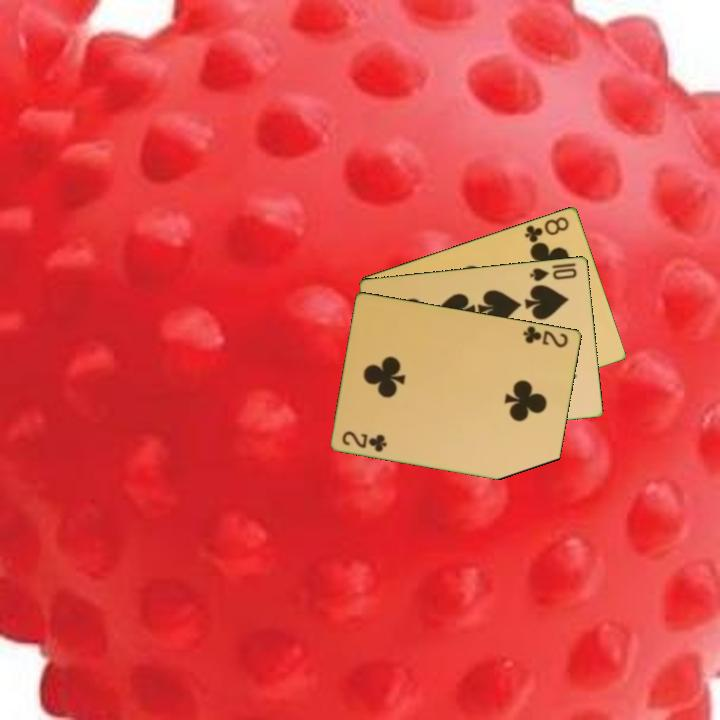10s: (527, 264, 580, 284)
2c: (520, 322, 571, 350), (339, 427, 390, 455)
8c: (521, 213, 572, 245)
